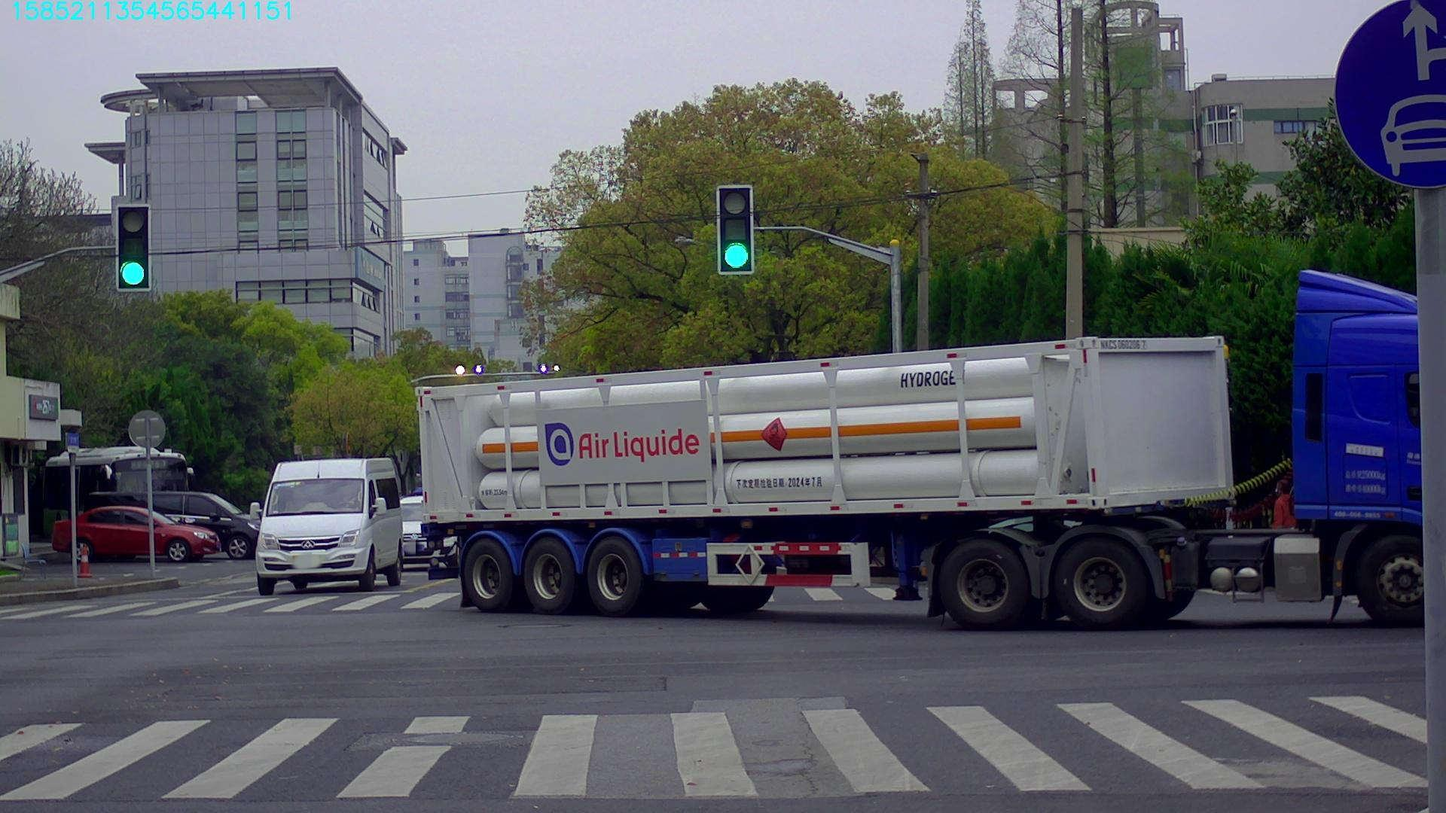green: (718, 187, 752, 272), (116, 206, 149, 288)
